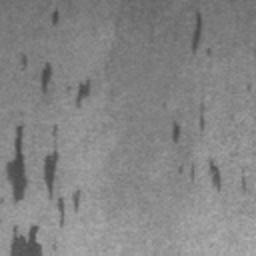Red iron sheet: (6, 125, 79, 227), (178, 159, 221, 188), (20, 54, 51, 92), (189, 10, 211, 56), (10, 225, 42, 256), (76, 79, 91, 109), (198, 104, 205, 129), (51, 9, 60, 26), (173, 123, 179, 142), (241, 177, 247, 189)
